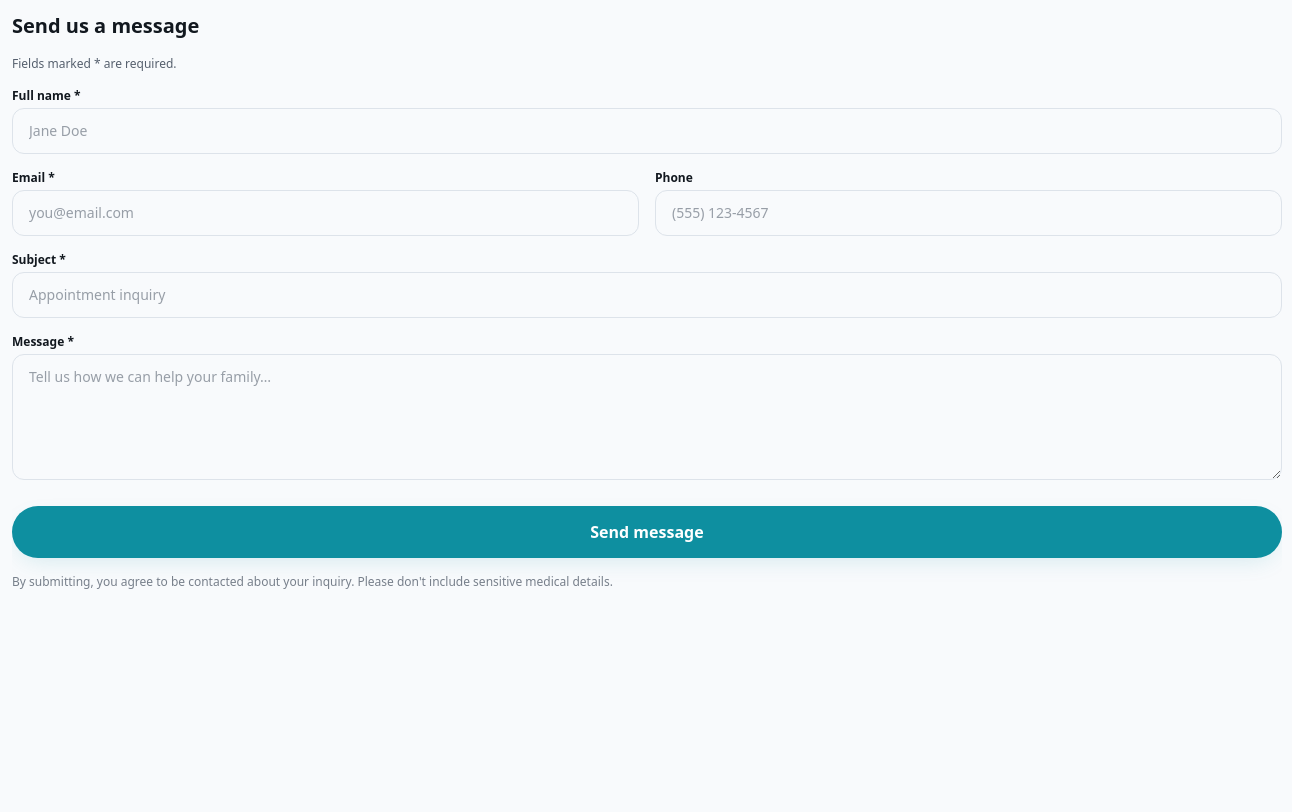
Test case: ContactForm › shows a send error message and keeps the form when the action fails
The image size is (1292, 812).
In the field labelled "Full name *": (647, 131) [12,108,1282,154], type "Jane"
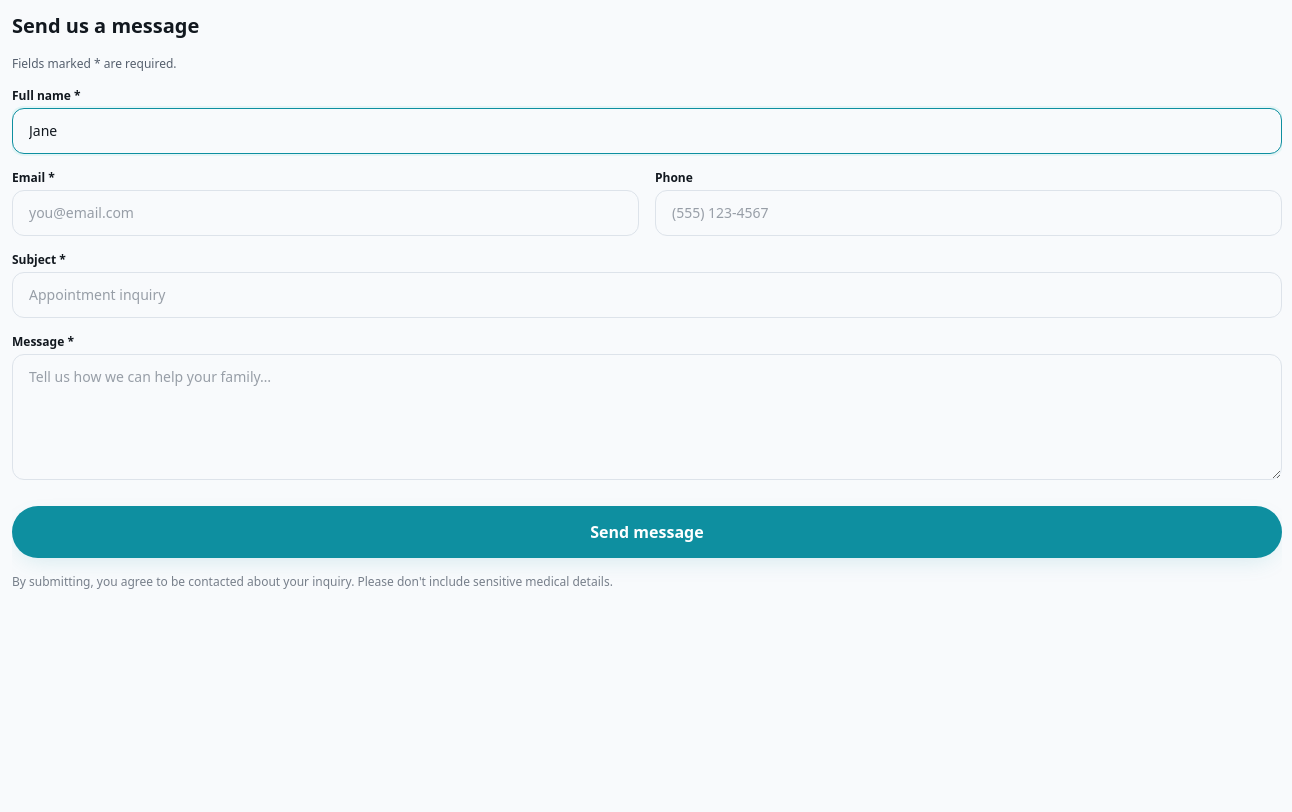
In the field labelled "Email *": (326, 213) [12,190,639,236], type "jane@example.com"
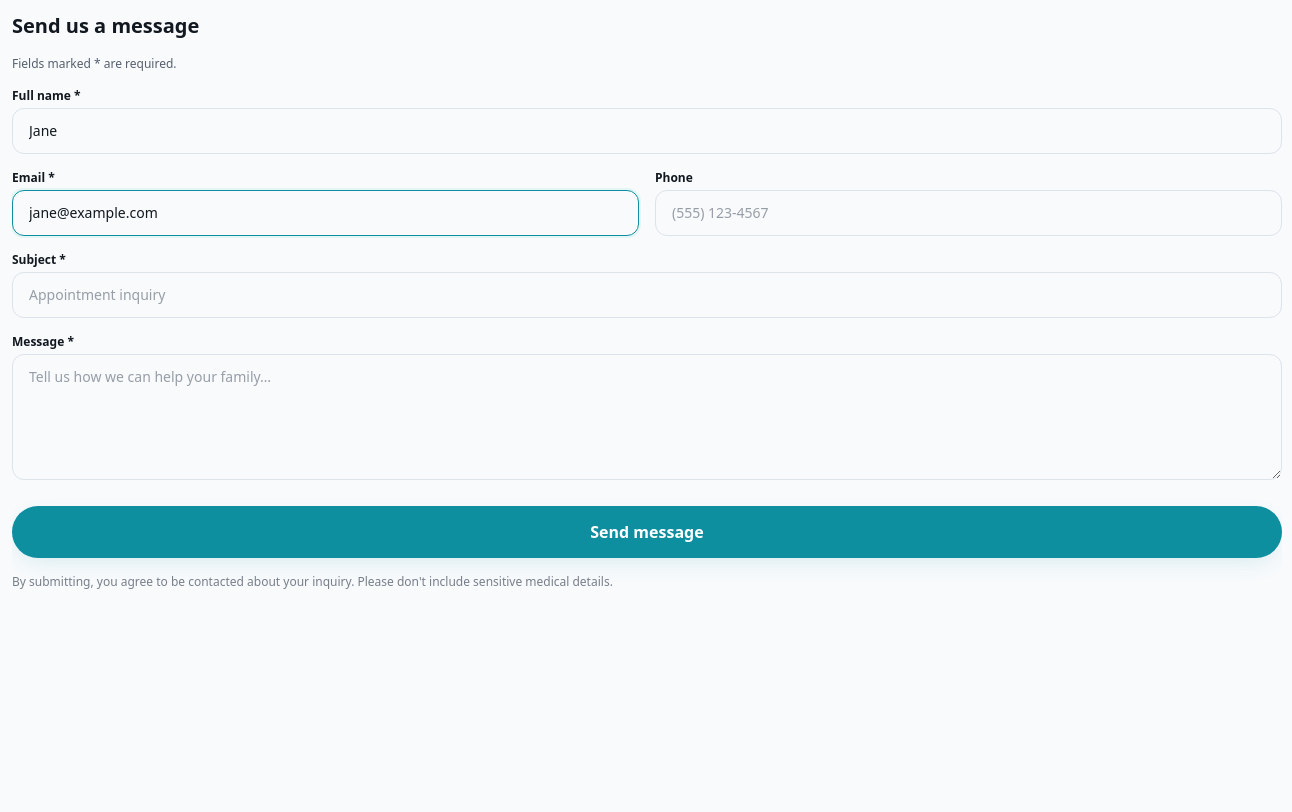
In the field labelled "Subject *": (647, 295) [12,272,1282,318], type "Hi"
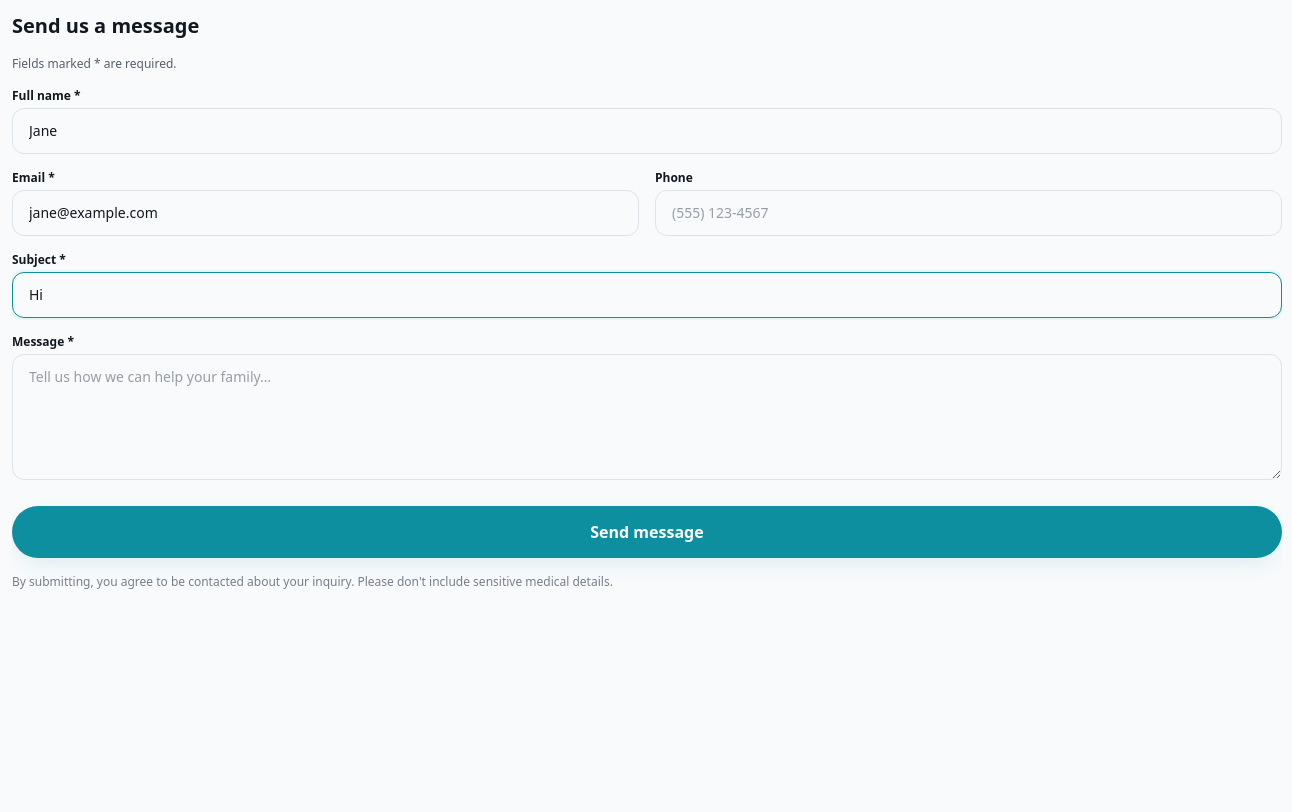
In the text box labelled "Message *": (647, 417) [12,354,1282,480], type "Hello there"
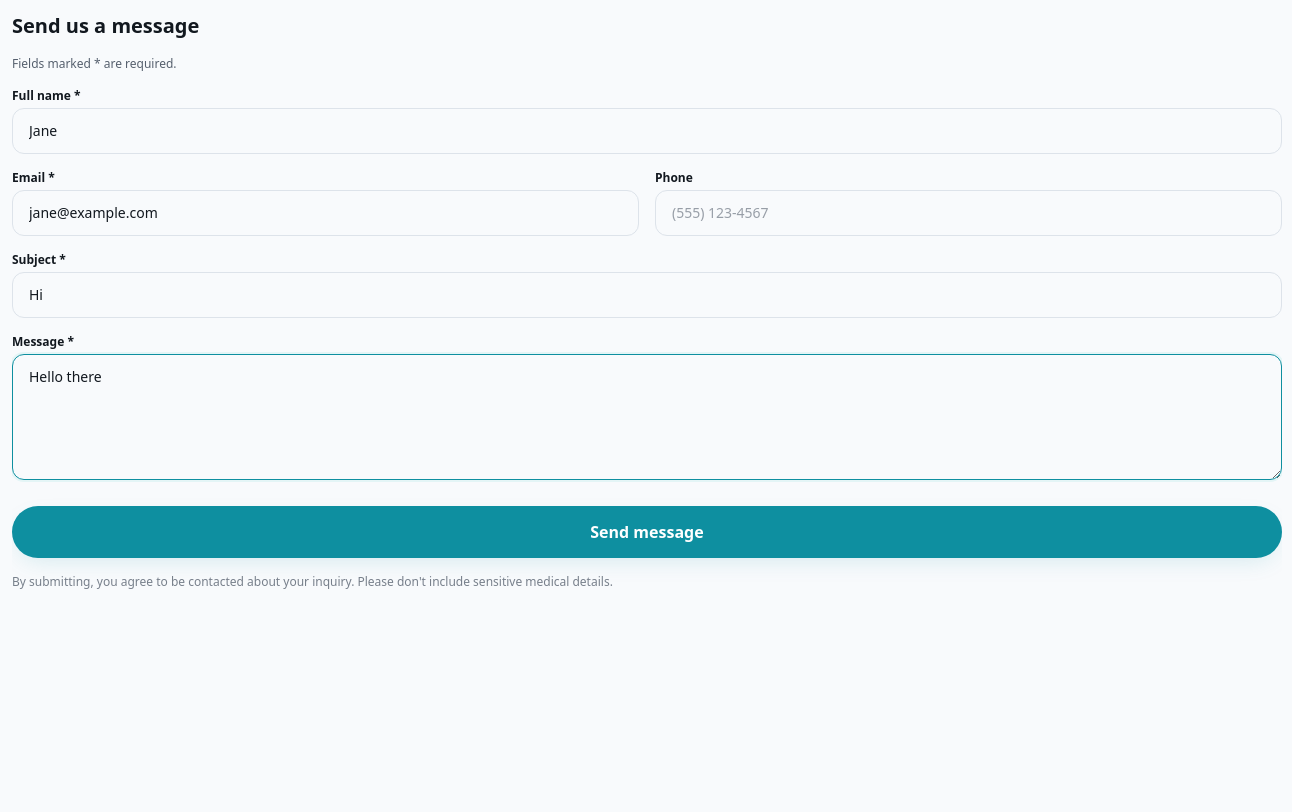
Click the button "Send message": (647, 532) [12,506,1282,558]
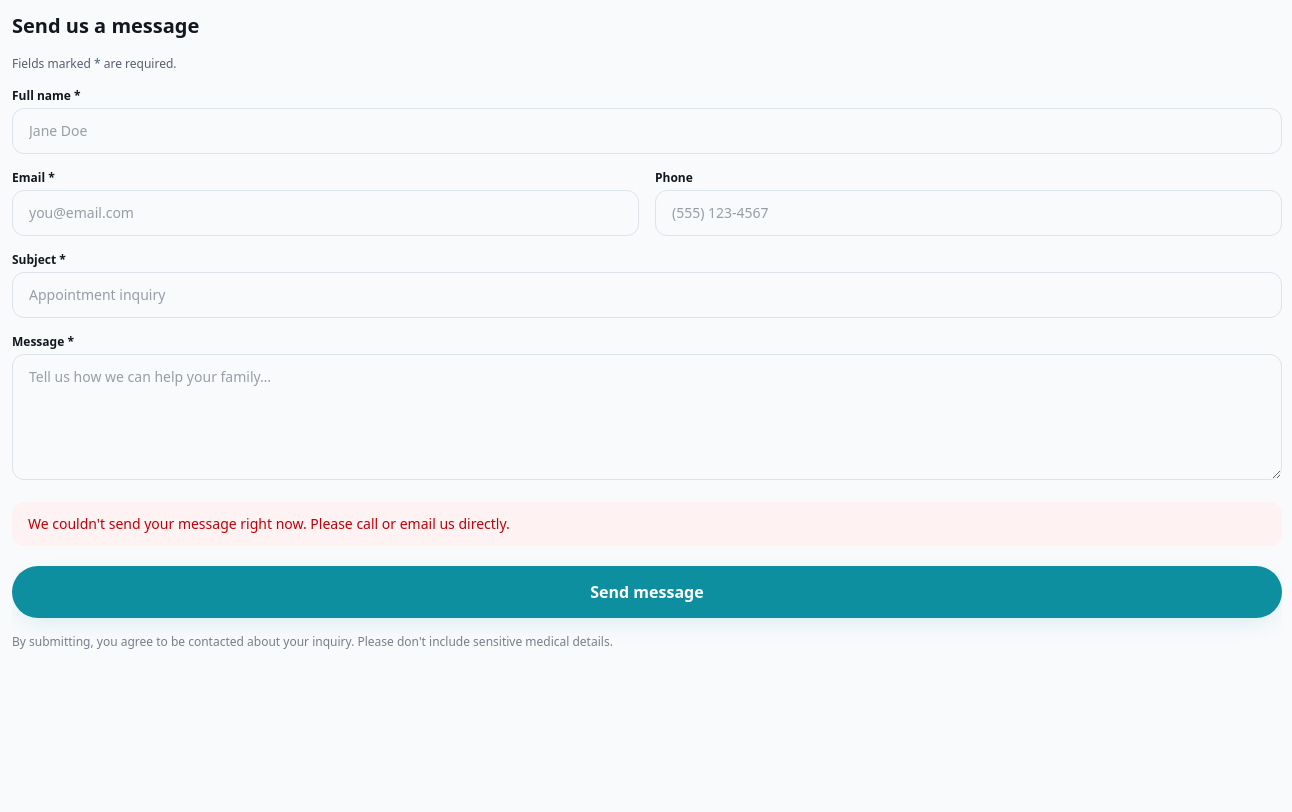
Check: the button "Send message" is shown, box [12,566,1282,618]
Check: the text "We couldn't send your message right now. Please call or email us directly." is shown, box [12,502,1282,546]
